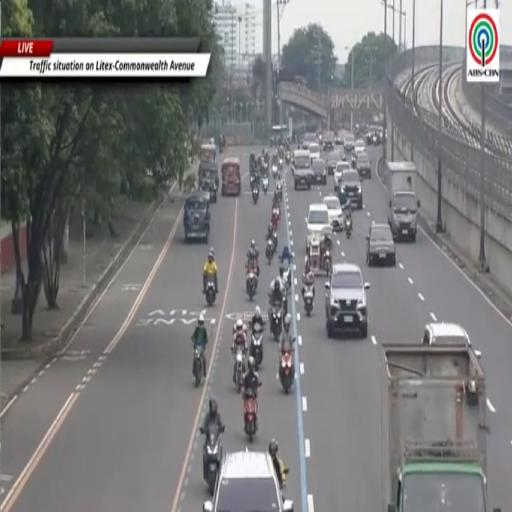car: (203, 451, 293, 511), (325, 263, 369, 338), (422, 323, 481, 358), (366, 223, 396, 266), (306, 204, 330, 252), (422, 323, 471, 346), (339, 169, 362, 209), (292, 150, 313, 189), (323, 196, 343, 231), (334, 160, 351, 191), (356, 152, 371, 179), (351, 139, 365, 167), (312, 158, 327, 184), (327, 151, 341, 175), (367, 125, 381, 146), (322, 132, 335, 151), (302, 134, 317, 150), (309, 143, 320, 161), (343, 134, 354, 152), (354, 139, 365, 154), (335, 134, 342, 146)
jeepney: (184, 191, 210, 243), (198, 163, 218, 202), (221, 157, 241, 196), (200, 144, 217, 163)
motorcycle: (200, 424, 224, 494), (243, 390, 257, 442), (279, 351, 294, 393), (250, 323, 263, 370), (234, 348, 245, 393), (270, 304, 282, 341), (193, 347, 203, 387), (246, 269, 257, 300), (304, 286, 314, 315), (206, 280, 216, 306), (283, 264, 291, 292), (266, 238, 274, 264), (324, 250, 332, 276), (345, 218, 352, 238), (252, 185, 258, 204), (262, 176, 268, 195), (276, 183, 282, 201), (272, 231, 277, 251), (272, 165, 278, 180), (350, 154, 356, 168), (286, 152, 290, 164), (279, 158, 283, 170)
tricycle: (309, 242, 320, 274)
truck: (380, 344, 488, 511), (387, 162, 420, 242)
